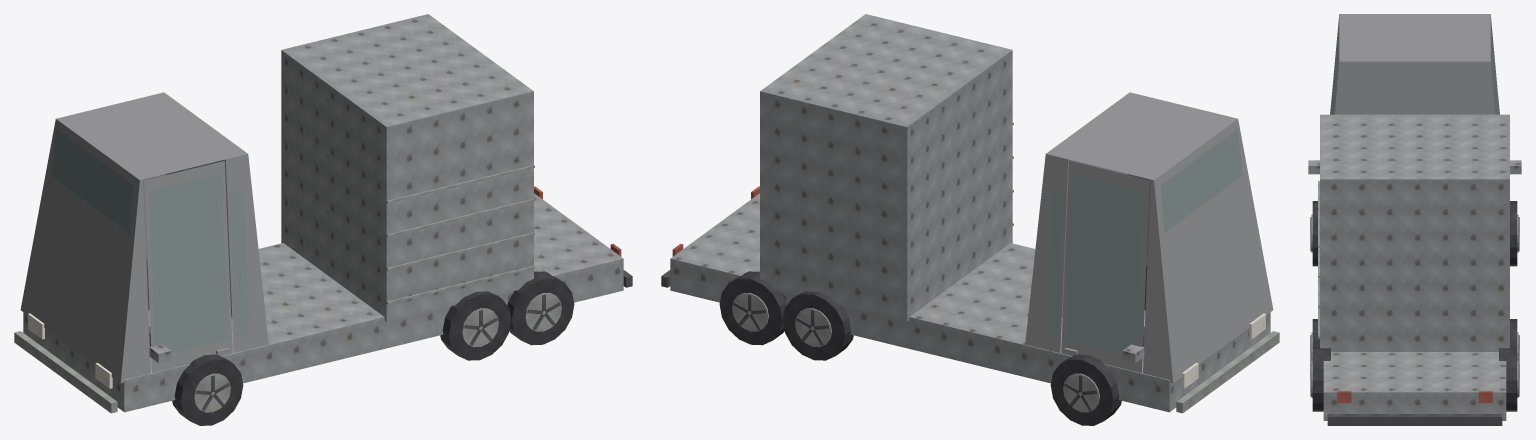
Rendered from vehicle_tractor.glb.
3 views of the same model, side by side, from view 1: azimuth 30°, elevation 25°; view 2: azimuth 150°, elevation 25°; view 3: azimuth 270°, elevation 25° (orthographic). The views are drawn at different scales.
Visible parts, largest first — view 1: body_panel.008, door_mirror.017, hub.033, hub.037, hub.035; view 2: body_panel.008, door_mirror.016, hub.032, hub.036, hub.034; view 3: body_panel.008, hub.034, hub.035, hub.032, door_mirror.016, door_mirror.017, hub.033, hub.036, hub.037.
Part boxes in pixels (<box>): body_panel.008: <box>14,14,632,413</box>; door_mirror.017: <box>144,161,232,372</box>; hub.033: <box>172,354,243,425</box>; hub.037: <box>440,291,511,360</box>; hub.035: <box>507,271,574,345</box>; body_panel.008: <box>661,14,1279,413</box>; door_mirror.016: <box>1061,161,1149,372</box>; hub.032: <box>1050,354,1121,425</box>; hub.036: <box>782,291,853,360</box>; hub.034: <box>719,271,786,345</box>; body_panel.008: <box>1318,14,1509,425</box>; hub.034: <box>1499,346,1519,411</box>; hub.035: <box>1310,346,1330,411</box>; hub.032: <box>1510,201,1519,266</box>; door_mirror.016: <box>1490,17,1521,174</box>; door_mirror.017: <box>1308,17,1339,174</box>; hub.033: <box>1310,201,1317,266</box>; hub.036: <box>1510,319,1519,362</box>; hub.037: <box>1310,319,1319,362</box>.
Bounding box in the file's own units: 6.5 × 3 × 2.55.
7 materials, 7 textured.
